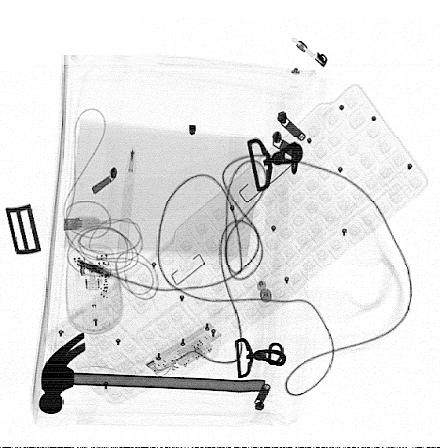Hammer: (38, 331, 266, 415)
